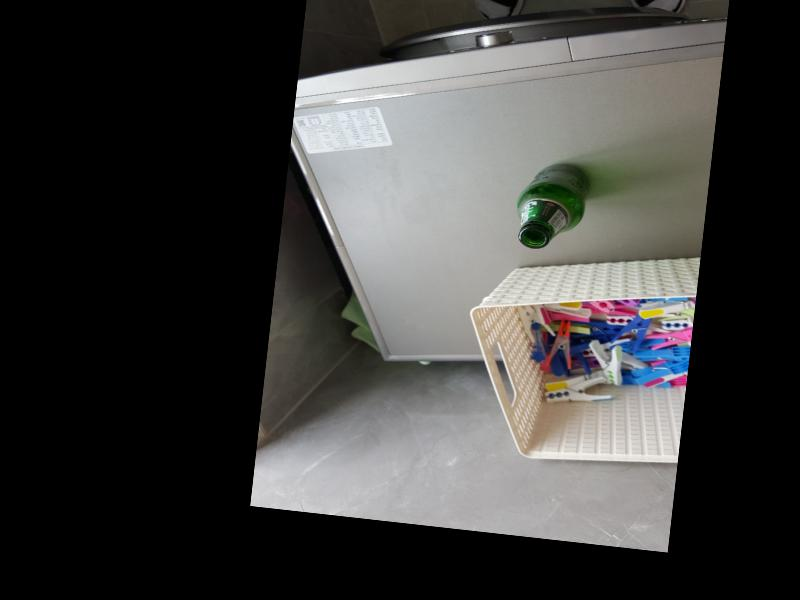Beer: (516, 157, 591, 252)
